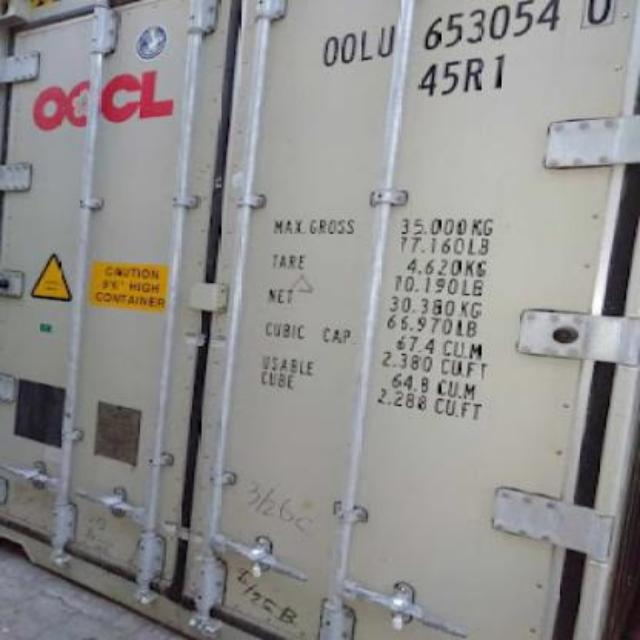0: (486, 1, 506, 39), (582, 2, 610, 24)
3: (464, 5, 484, 43)
4: (536, 2, 564, 34)
5: (510, 1, 536, 39), (441, 6, 462, 48)
6: (416, 11, 442, 54)
L: (358, 25, 374, 63)
O: (316, 30, 340, 72), (338, 27, 359, 73)
U: (374, 21, 396, 65)
